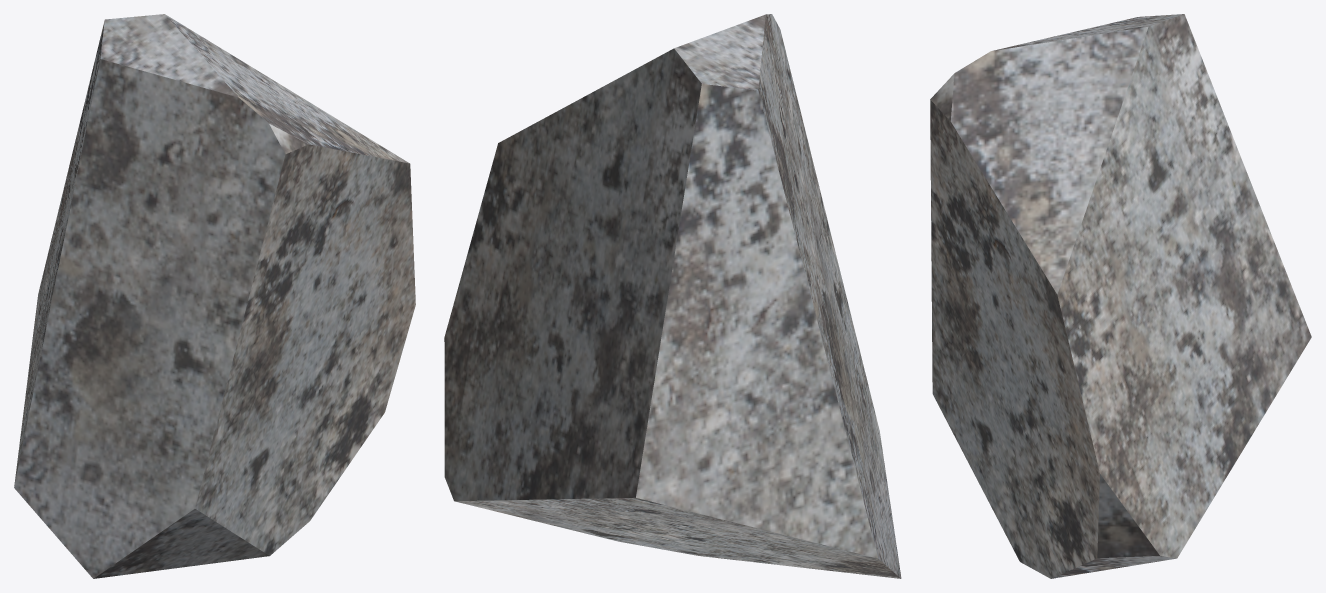
Rendered from Asteroid_Large_001_02_005_03_002.fbx.
3 renders of one model, left to right at view 1: azimuth 30°, elevation 25°; view 2: azimuth 150°, elevation 25°; view 3: azimuth 270°, elevation 25°, orthographic. The views are drawn at different scales.
Visible parts, largest first — view 1: Asteroid_Large_001_02_005_03_002; view 2: Asteroid_Large_001_02_005_03_002; view 3: Asteroid_Large_001_02_005_03_002.
Boxes of the visible parts, x1,y1,x2,y2 form: Asteroid_Large_001_02_005_03_002: (14,14,415,578); Asteroid_Large_001_02_005_03_002: (444,14,901,578); Asteroid_Large_001_02_005_03_002: (930,14,1311,578).
Size of the model in its own units: 8.66 by 10.65 by 7.16.
